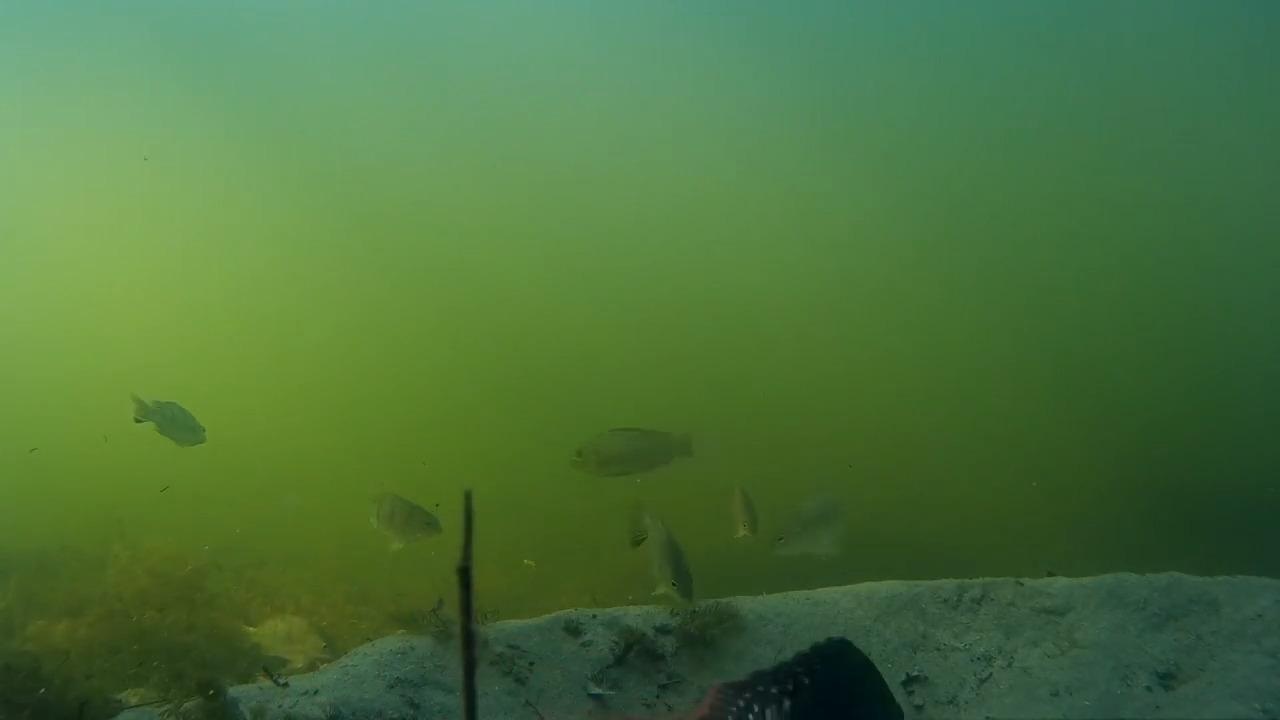Tilapia: (677, 626, 908, 720), (622, 500, 721, 632), (560, 410, 701, 478), (228, 600, 343, 682), (766, 498, 857, 572), (127, 390, 213, 458), (360, 490, 443, 554), (721, 488, 762, 540)
